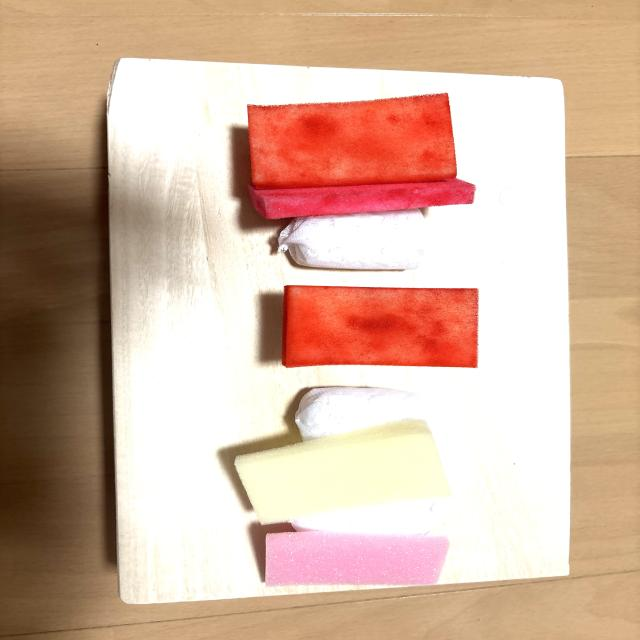NG: (235, 387, 450, 523), (249, 178, 475, 270), (266, 500, 449, 586)
salmon: (248, 94, 457, 189), (283, 286, 477, 367)
